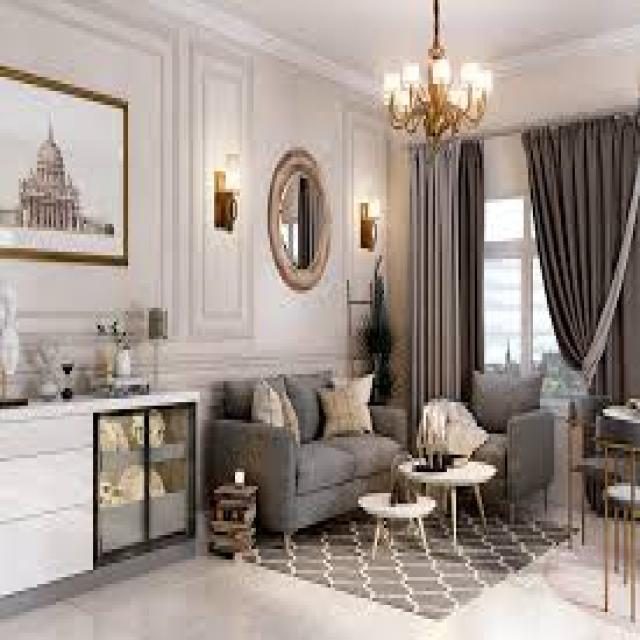Chair: (427, 376, 550, 524), (567, 396, 640, 614)
Lamp: (381, 55, 494, 149), (210, 150, 242, 224), (358, 198, 386, 248)
Sofa: (211, 379, 404, 548)
Table: (357, 454, 496, 575)
